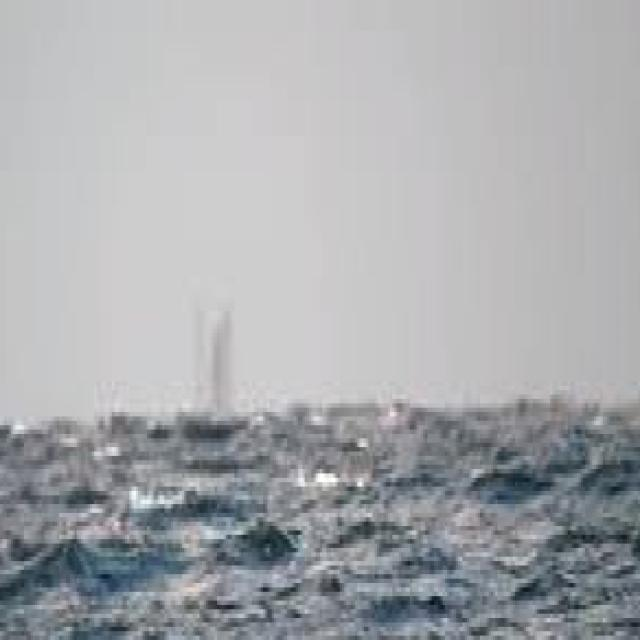fishing boat: (173, 304, 256, 448)
